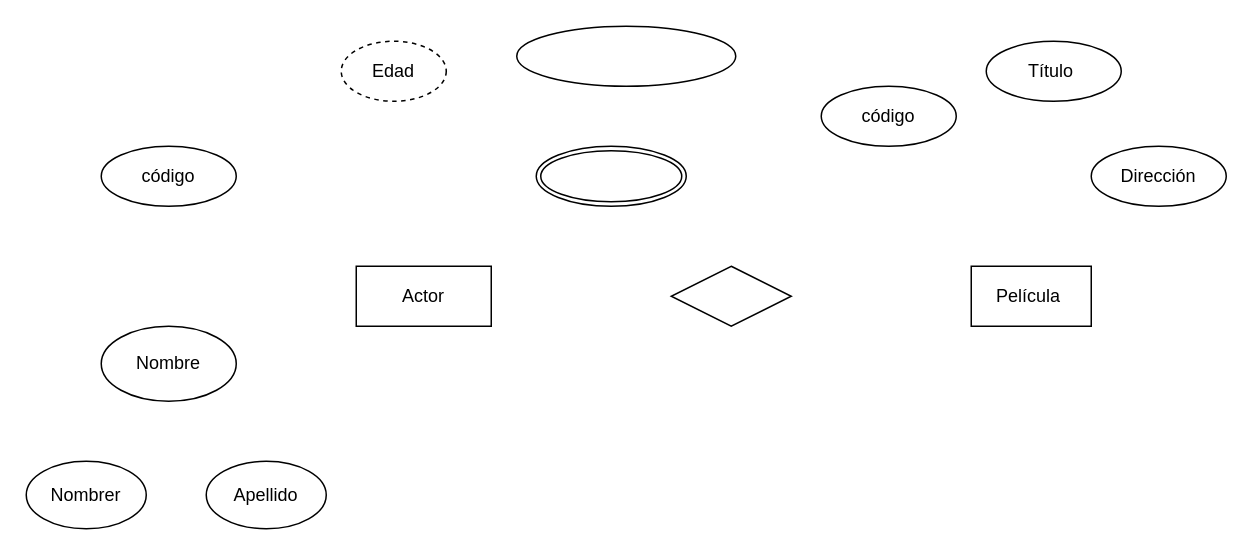
The diagram is 1253 pixels wide and 555 high, and some of its shapes have lost their labels. Each missing label, with the centre of its shape:
"Actúa" belongs at pixel 730 295.
"FechaNacimiento" belongs at pixel 625 55.
"Teléfono" belongs at pixel 610 175.
